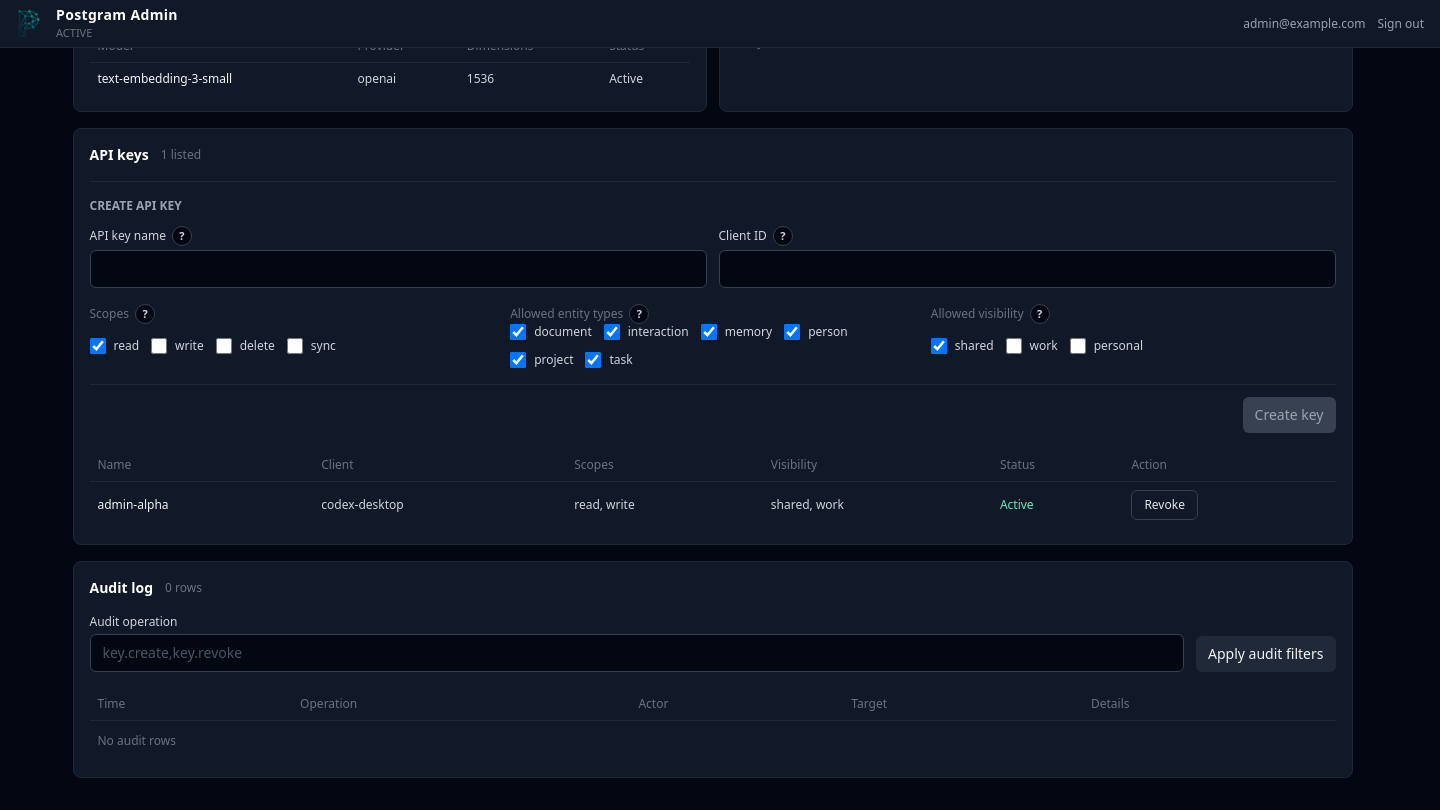
Admin operations dashboard › revokes API keys through the CSRF-protected admin client without displaying key hashes
(page scrolled)
Expected: the text "admin-alpha" is shown, [90,481,313,528]
Click the button with aria-label "Revoke admin-alpha" at (1165, 504), box [1131,490,1198,520]
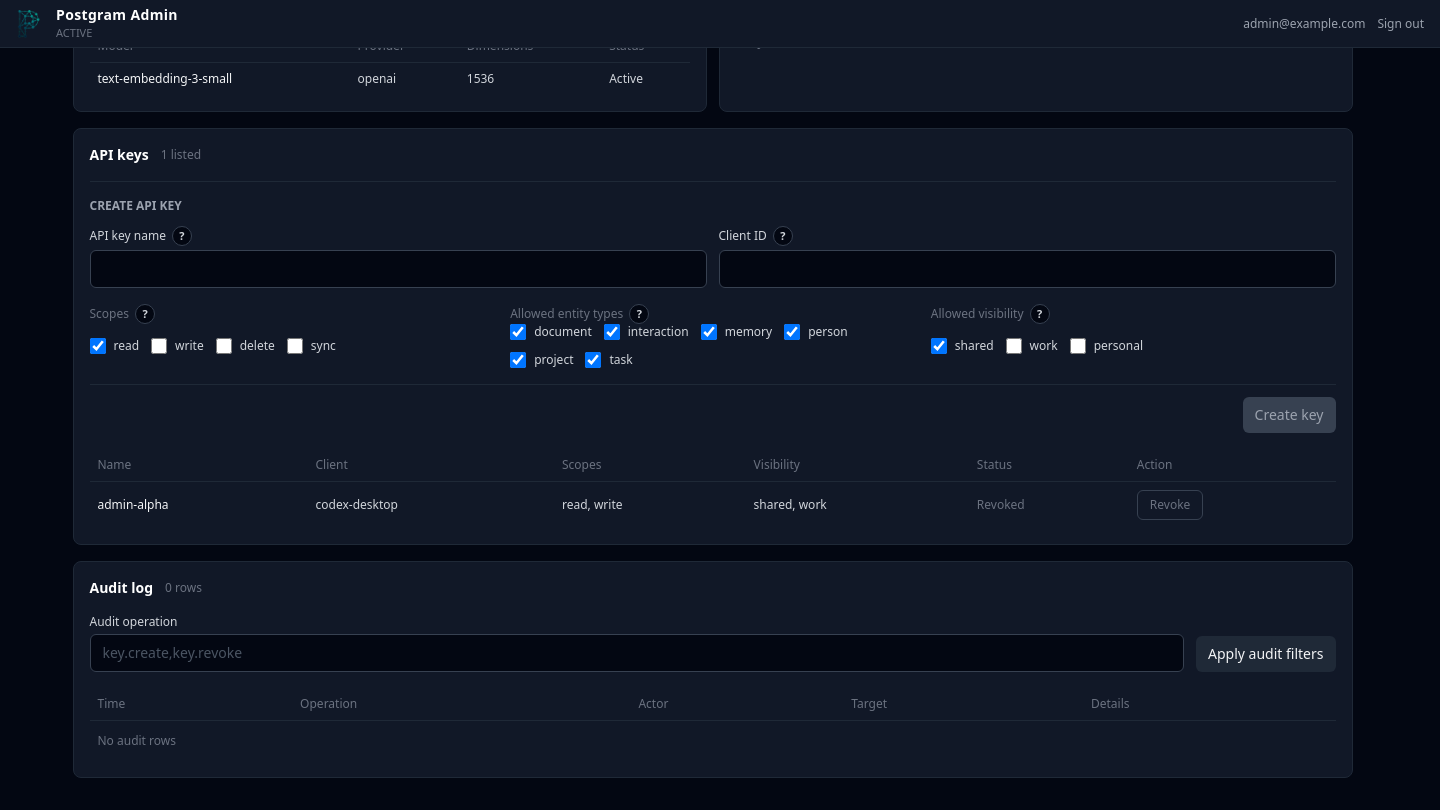
Now the text "Revoked" is shown, box [977,496,1025,512]
